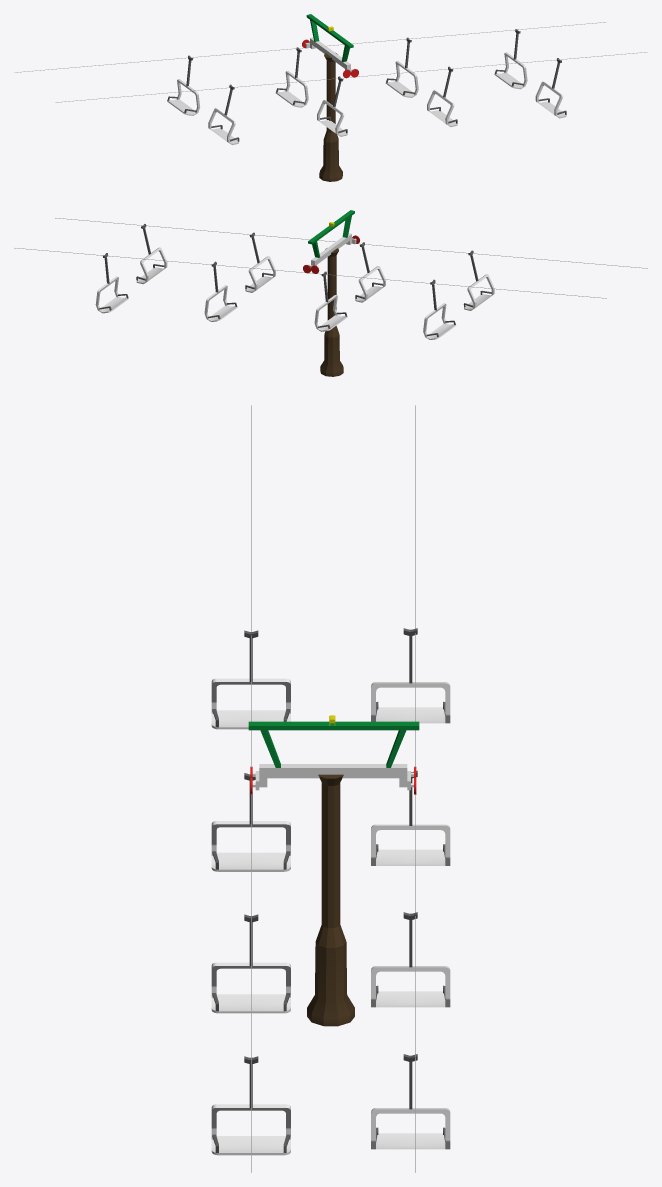
The model's file is rift.fbx.
3 renders of one model, top to bottom at view 1: azimuth 30°, elevation 25°; view 2: azimuth 150°, elevation 25°; view 3: azimuth 270°, elevation 25°, orthographic. The views are drawn at different scales.
Visible parts, largest first — view 1: pCube21; view 2: pCube21; view 3: pCube21.
Part boxes in pixels (<box>): pCube21: <box>14,14,647,181</box>; pCube21: <box>14,210,647,376</box>; pCube21: <box>211,405,450,1172</box>.
Bounding box in the file's own units: 517 × 134 × 90.08.
